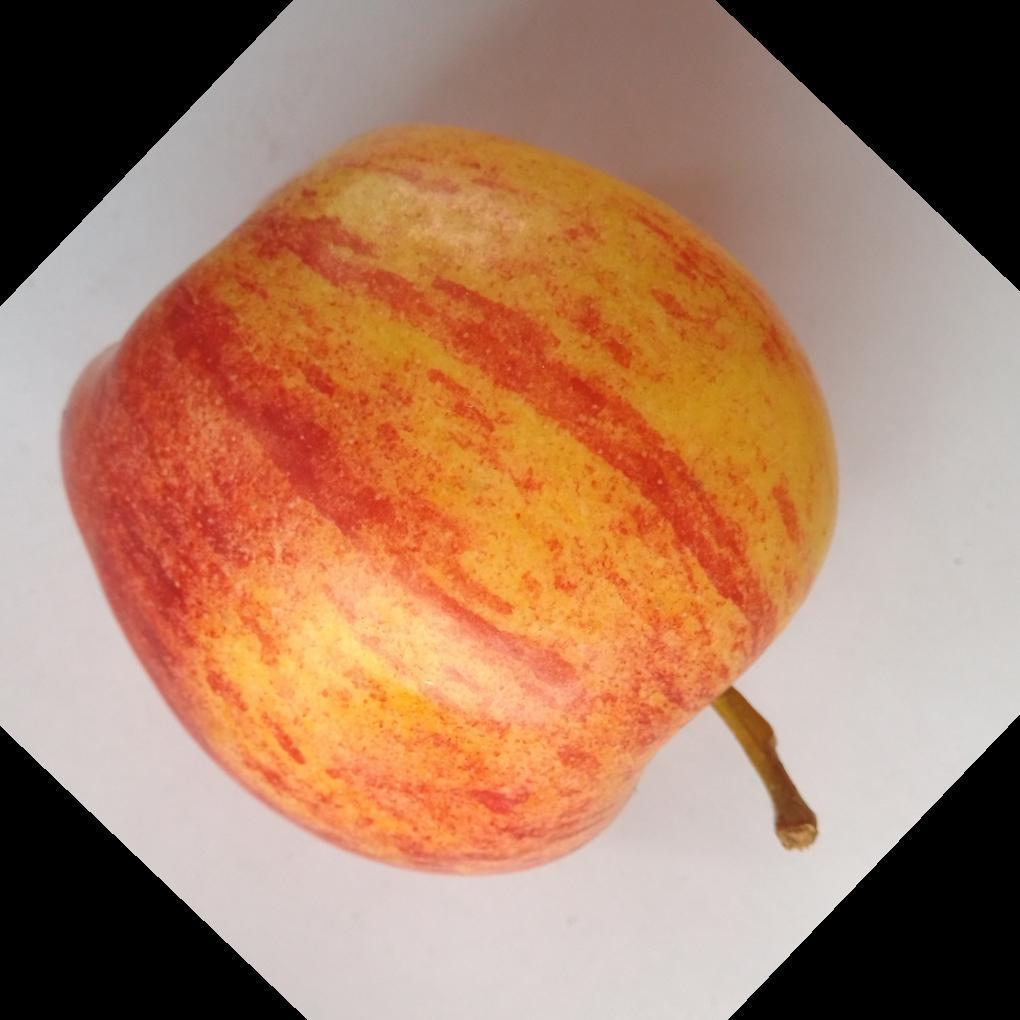FreshGuava: (59, 123, 840, 880)
